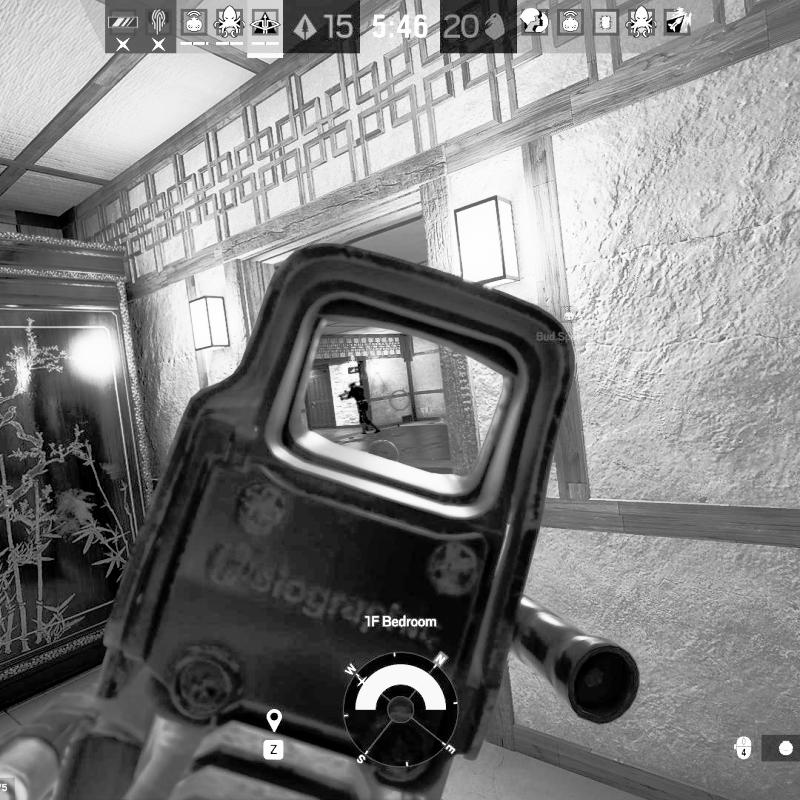Character: (338, 380, 381, 436)
Friend_label: (539, 304, 598, 346), (338, 355, 369, 381)
Head: (347, 381, 356, 390)
